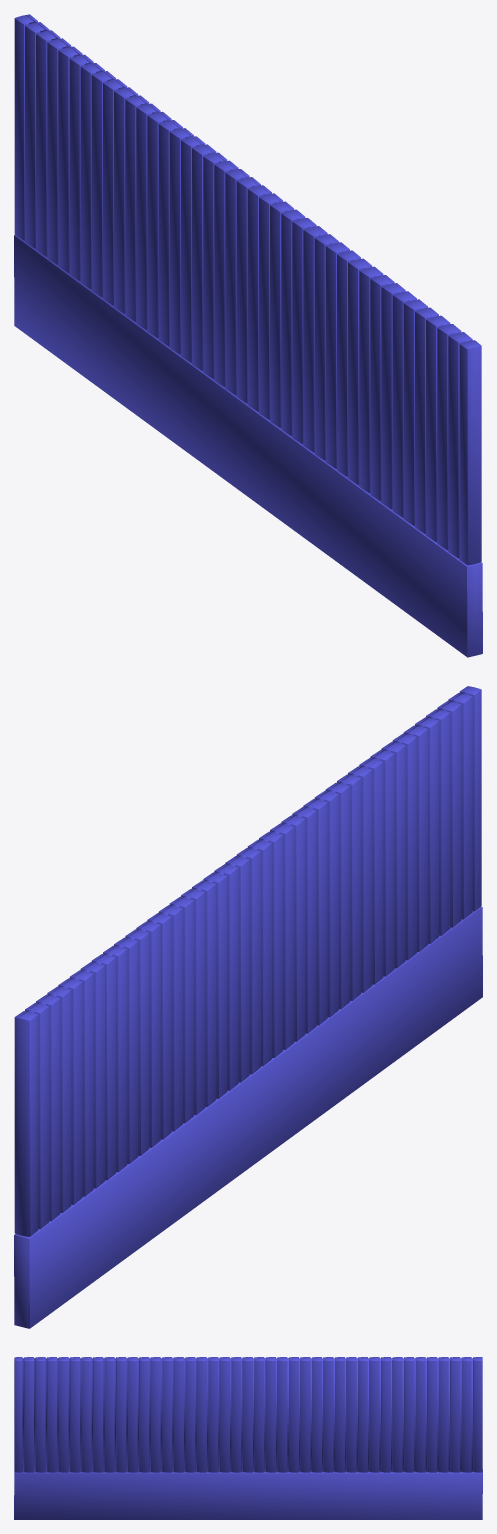
File: door4.obj
The picture shows the model from 3 angles, top to bottom: view 1: azimuth 30°, elevation 25°; view 2: azimuth 150°, elevation 25°; view 3: azimuth 270°, elevation 25°; orthographic projection. The views are drawn at different scales.
Parts seen in each view (by area): view 1: Door_F; view 2: Door_F; view 3: Door_F.
Part boxes in pixels (<box>): Door_F: <box>14,14,482,657</box>; Door_F: <box>14,686,482,1328</box>; Door_F: <box>14,1357,482,1519</box>.
Bounding box in the file's own units: 0.04 × 0.75 × 2.
